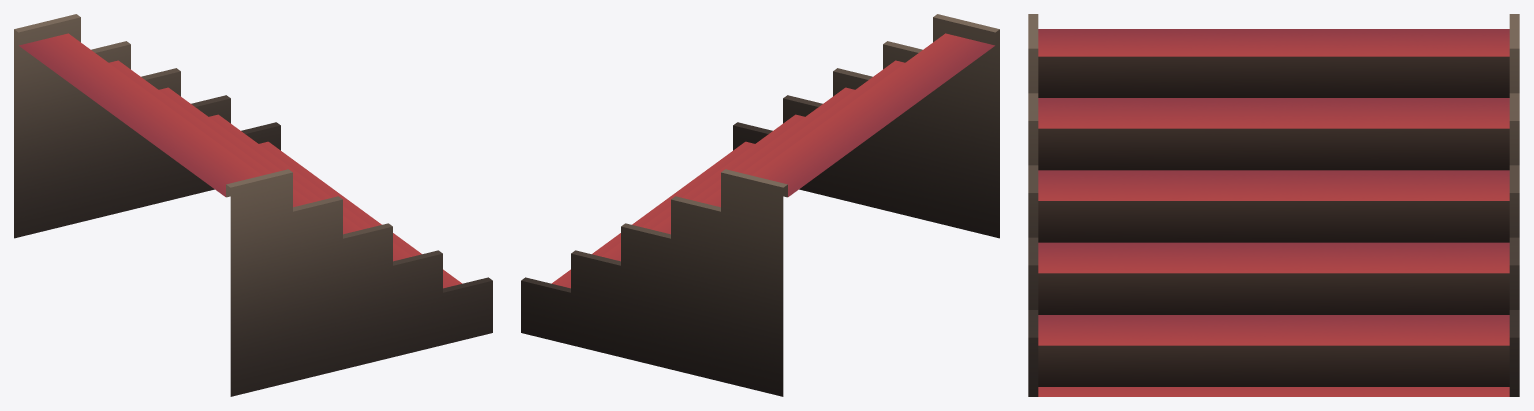
Rendered from 2m_stairs.fbx.
3 renders of one model, left to right at view 1: azimuth 30°, elevation 25°; view 2: azimuth 150°, elevation 25°; view 3: azimuth 270°, elevation 25°, orthographic. The views are drawn at different scales.
Parts seen in each view (by area): view 1: stairs; view 2: stairs; view 3: stairs.
Part boxes in pixels (<box>): stairs: <box>14,14,492,396</box>; stairs: <box>521,14,999,396</box>; stairs: <box>1028,14,1519,396</box>.
Bounding box in the file's own units: 210 × 160 × 300.
